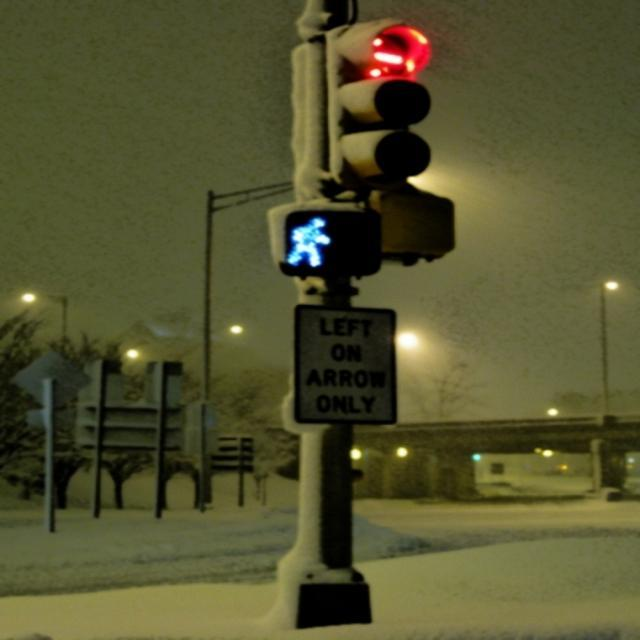traffic light: (332, 17, 433, 186)
